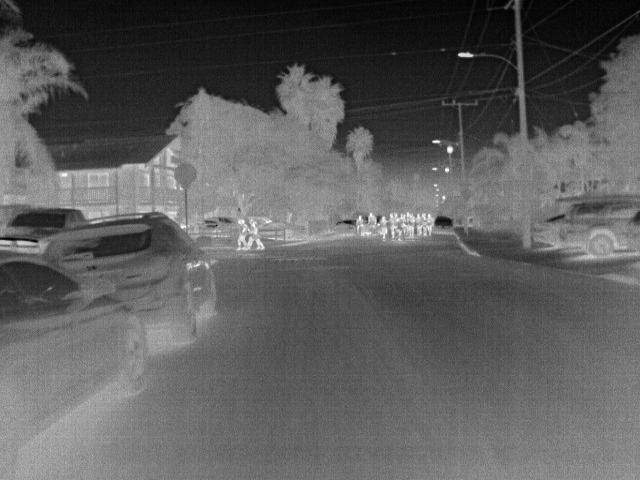car: (3, 242, 151, 476), (35, 209, 221, 344), (563, 197, 640, 260), (1, 207, 84, 254), (531, 210, 565, 246), (433, 218, 455, 236), (334, 220, 357, 236)
person: (246, 222, 266, 248), (234, 216, 248, 246), (377, 215, 392, 239), (415, 212, 427, 236), (423, 212, 435, 234), (367, 209, 380, 229), (353, 214, 365, 230)
